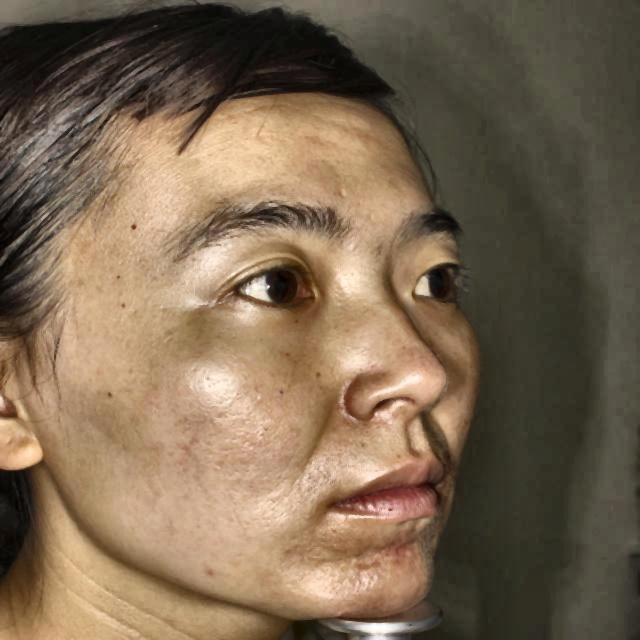comedone: (382, 535, 421, 576)
